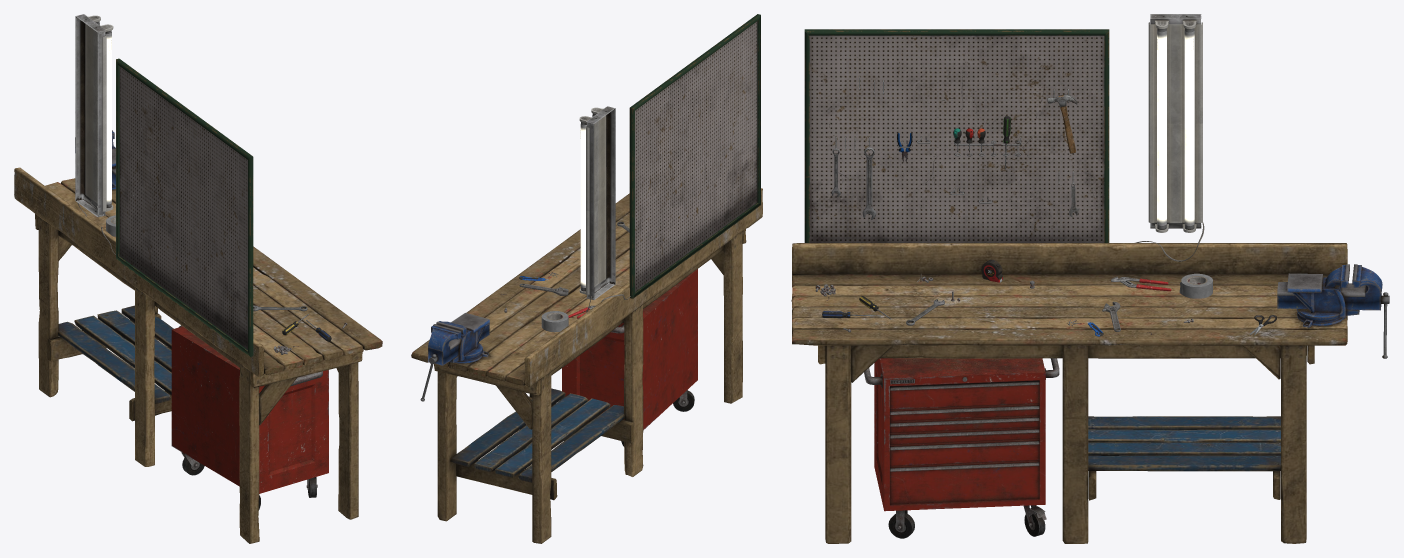
Rendered from workbench.glb.
The picture shows the model from 3 angles, left to right: view 1: azimuth 30°, elevation 25°; view 2: azimuth 150°, elevation 25°; view 3: azimuth 270°, elevation 25°; orthographic projection. The views are drawn at different scales.
Visible parts, largest first — view 1: Pegboard_Sheet_low, Tool_Cabinet_Body_low, Workbench_Group_1_low, Workbench_Group_5_low, Workbench_Group_2_low, Pegboard_Frame_low, Light_Fixture_Base_low, Light_Fixture_Plate_low, Workbench_Group_3_low, Workbench_Group_4_low, Light_Fixture_Bulbs_low; view 2: Pegboard_Sheet_low, Workbench_Group_1_low, Workbench_Group_5_low, Tool_Cabinet_Body_low, Workbench_Group_2_low, Pegboard_Frame_low, Workbench_Group_3_low, Light_Fixture_Base_low, Light_Fixture_Plate_low, Vice_Base_low, Vice_Slide_low, Light_Fixture_Bulbs_low (+2 smaller); view 3: Pegboard_Sheet_low, Workbench_Group_1_low, Workbench_Group_2_low, Workbench_Group_5_low, Tool_Cabinet_Drawers_low, Tool_Cabinet_Body_low, Light_Fixture_Plate_low, Workbench_Group_3_low, Pegboard_Frame_low, Light_Fixture_Bulbs_low, Tool_Cabinet_Handles_low, Vice_Base_low (+3 smaller).
Part boxes in pixels (x1=…): Pegboard_Sheet_low: x1=119, y1=66, x2=247, y2=349; Tool_Cabinet_Body_low: x1=171, y1=326, x2=328, y2=493; Workbench_Group_1_low: x1=14, y1=167, x2=382, y2=395; Workbench_Group_5_low: x1=38, y1=217, x2=358, y2=543; Workbench_Group_2_low: x1=58, y1=178, x2=363, y2=403; Pegboard_Frame_low: x1=116, y1=58, x2=253, y2=356; Light_Fixture_Base_low: x1=75, y1=16, x2=105, y2=216; Light_Fixture_Plate_low: x1=85, y1=24, x2=106, y2=211; Workbench_Group_3_low: x1=47, y1=230, x2=296, y2=425; Workbench_Group_4_low: x1=35, y1=214, x2=362, y2=387; Light_Fixture_Bulbs_low: x1=96, y1=21, x2=111, y2=207; Pegboard_Sheet_low: x1=635, y1=21, x2=757, y2=291; Workbench_Group_1_low: x1=411, y1=188, x2=762, y2=477; Workbench_Group_5_low: x1=437, y1=231, x2=742, y2=543; Tool_Cabinet_Body_low: x1=562, y1=269, x2=697, y2=429; Workbench_Group_2_low: x1=434, y1=212, x2=629, y2=482; Pegboard_Frame_low: x1=629, y1=14, x2=760, y2=298; Workbench_Group_3_low: x1=456, y1=246, x2=723, y2=500; Light_Fixture_Base_low: x1=587, y1=108, x2=615, y2=299; Light_Fixture_Plate_low: x1=586, y1=115, x2=605, y2=294; Vice_Base_low: x1=436, y1=313, x2=489, y2=363; Vice_Slide_low: x1=428, y1=320, x2=489, y2=365; Light_Fixture_Bulbs_low: x1=580, y1=113, x2=595, y2=291; Pegboard_Sheet_low: x1=809, y1=35, x2=1104, y2=242; Workbench_Group_1_low: x1=792, y1=243, x2=1347, y2=471; Workbench_Group_2_low: x1=791, y1=274, x2=1347, y2=455; Workbench_Group_5_low: x1=825, y1=345, x2=1306, y2=543; Tool_Cabinet_Drawers_low: x1=890, y1=380, x2=1039, y2=504; Tool_Cabinet_Body_low: x1=874, y1=358, x2=1045, y2=511; Light_Fixture_Plate_low: x1=1148, y1=22, x2=1202, y2=222; Workbench_Group_3_low: x1=851, y1=344, x2=1306, y2=500; Pegboard_Frame_low: x1=804, y1=29, x2=1109, y2=242; Light_Fixture_Bulbs_low: x1=1157, y1=28, x2=1194, y2=229; Tool_Cabinet_Handles_low: x1=864, y1=358, x2=1059, y2=471; Vice_Base_low: x1=1287, y1=264, x2=1359, y2=327.
Bounding box in the file's own units: 0.5609 × 1.71 × 2.
Materials: 6 (6 with a texture image).
